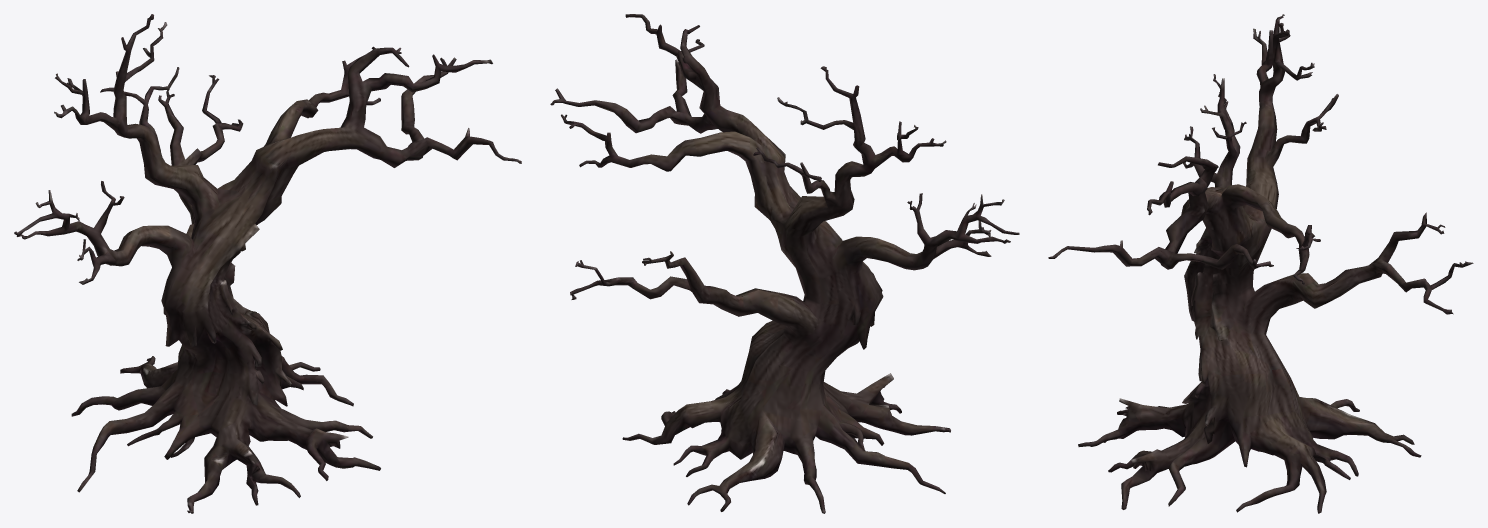
The model's file is dead.glb.
3 views of the same model, side by side, from view 1: azimuth 30°, elevation 25°; view 2: azimuth 150°, elevation 25°; view 3: azimuth 270°, elevation 25° (orthographic). The views are drawn at different scales.
Parts seen in each view (by area): view 1: Mesh_0.001; view 2: Mesh_0.001; view 3: Mesh_0.001.
Boxes of the visible parts, x1=… form: Mesh_0.001: x1=14, y1=14, x2=521, y2=513; Mesh_0.001: x1=550, y1=14, x2=1019, y2=513; Mesh_0.001: x1=1048, y1=14, x2=1473, y2=513.
Bounding box in the file's own units: 4.97 × 4.5 × 4.11.
Materials: 1 (1 with a texture image).
